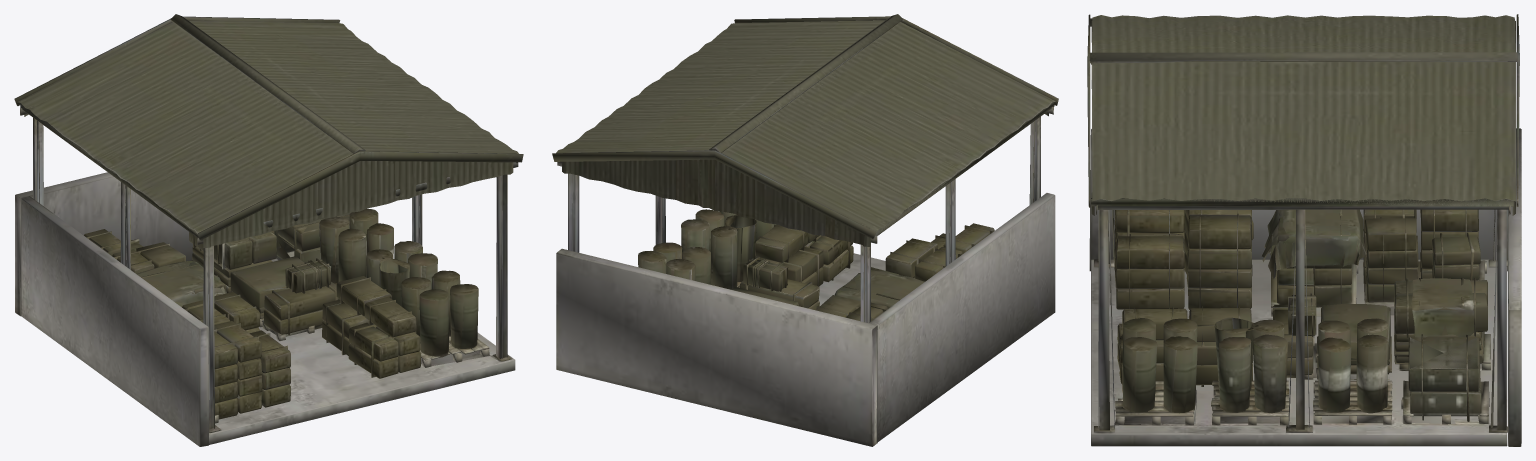
The model's file is supply_depot.glb.
3 views of the same model, side by side, from view 1: azimuth 30°, elevation 25°; view 2: azimuth 150°, elevation 25°; view 3: azimuth 270°, elevation 25° (orthographic). The views are drawn at different scales.
Visible parts, largest first — view 1: hull; view 2: hull; view 3: hull.
Part boxes in pixels (x1,y1,x2,y2): hull: [14, 14, 523, 446]; hull: [552, 14, 1058, 446]; hull: [1087, 14, 1521, 446].
Bounding box in the file's own units: 10.8 × 8.28 × 10.7.
Materials: 3 (3 with a texture image).
